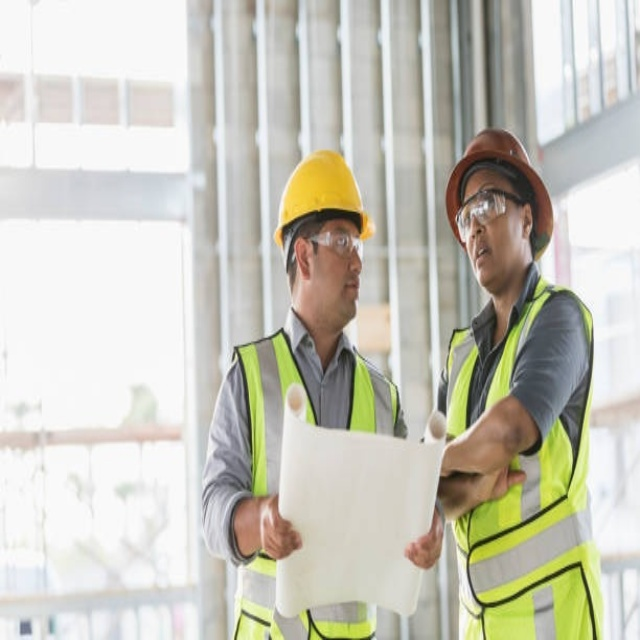Gafas: (456, 189, 526, 241), (306, 230, 365, 262)
Sin_guantes: (402, 500, 449, 573), (257, 488, 305, 558)
Sin_mascara: (335, 271, 363, 312), (468, 241, 499, 276)
